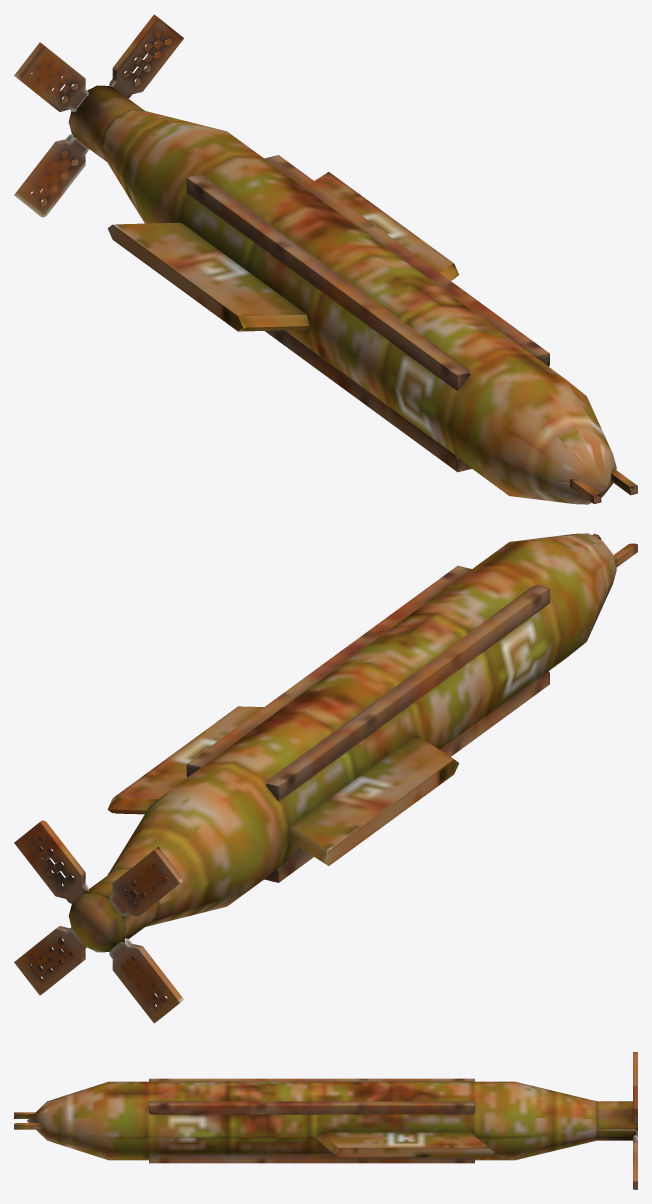
Rendered from dud_conventional.obj.
The picture shows the model from 3 angles, top to bottom: view 1: azimuth 30°, elevation 25°; view 2: azimuth 150°, elevation 25°; view 3: azimuth 270°, elevation 25°; orthographic projection. The views are drawn at different scales.
Parts seen in each view (by area): view 1: Cube.003_Cube.005; view 2: Cube.003_Cube.005; view 3: Cube.003_Cube.005.
Boxes of the visible parts, x1=… form: Cube.003_Cube.005: x1=14, y1=14, x2=637, y2=504; Cube.003_Cube.005: x1=14, y1=533, x2=637, y2=1023; Cube.003_Cube.005: x1=14, y1=1052, x2=637, y2=1189.
Size of the model in its own units: 1.84 by 1.41 by 7.66.
